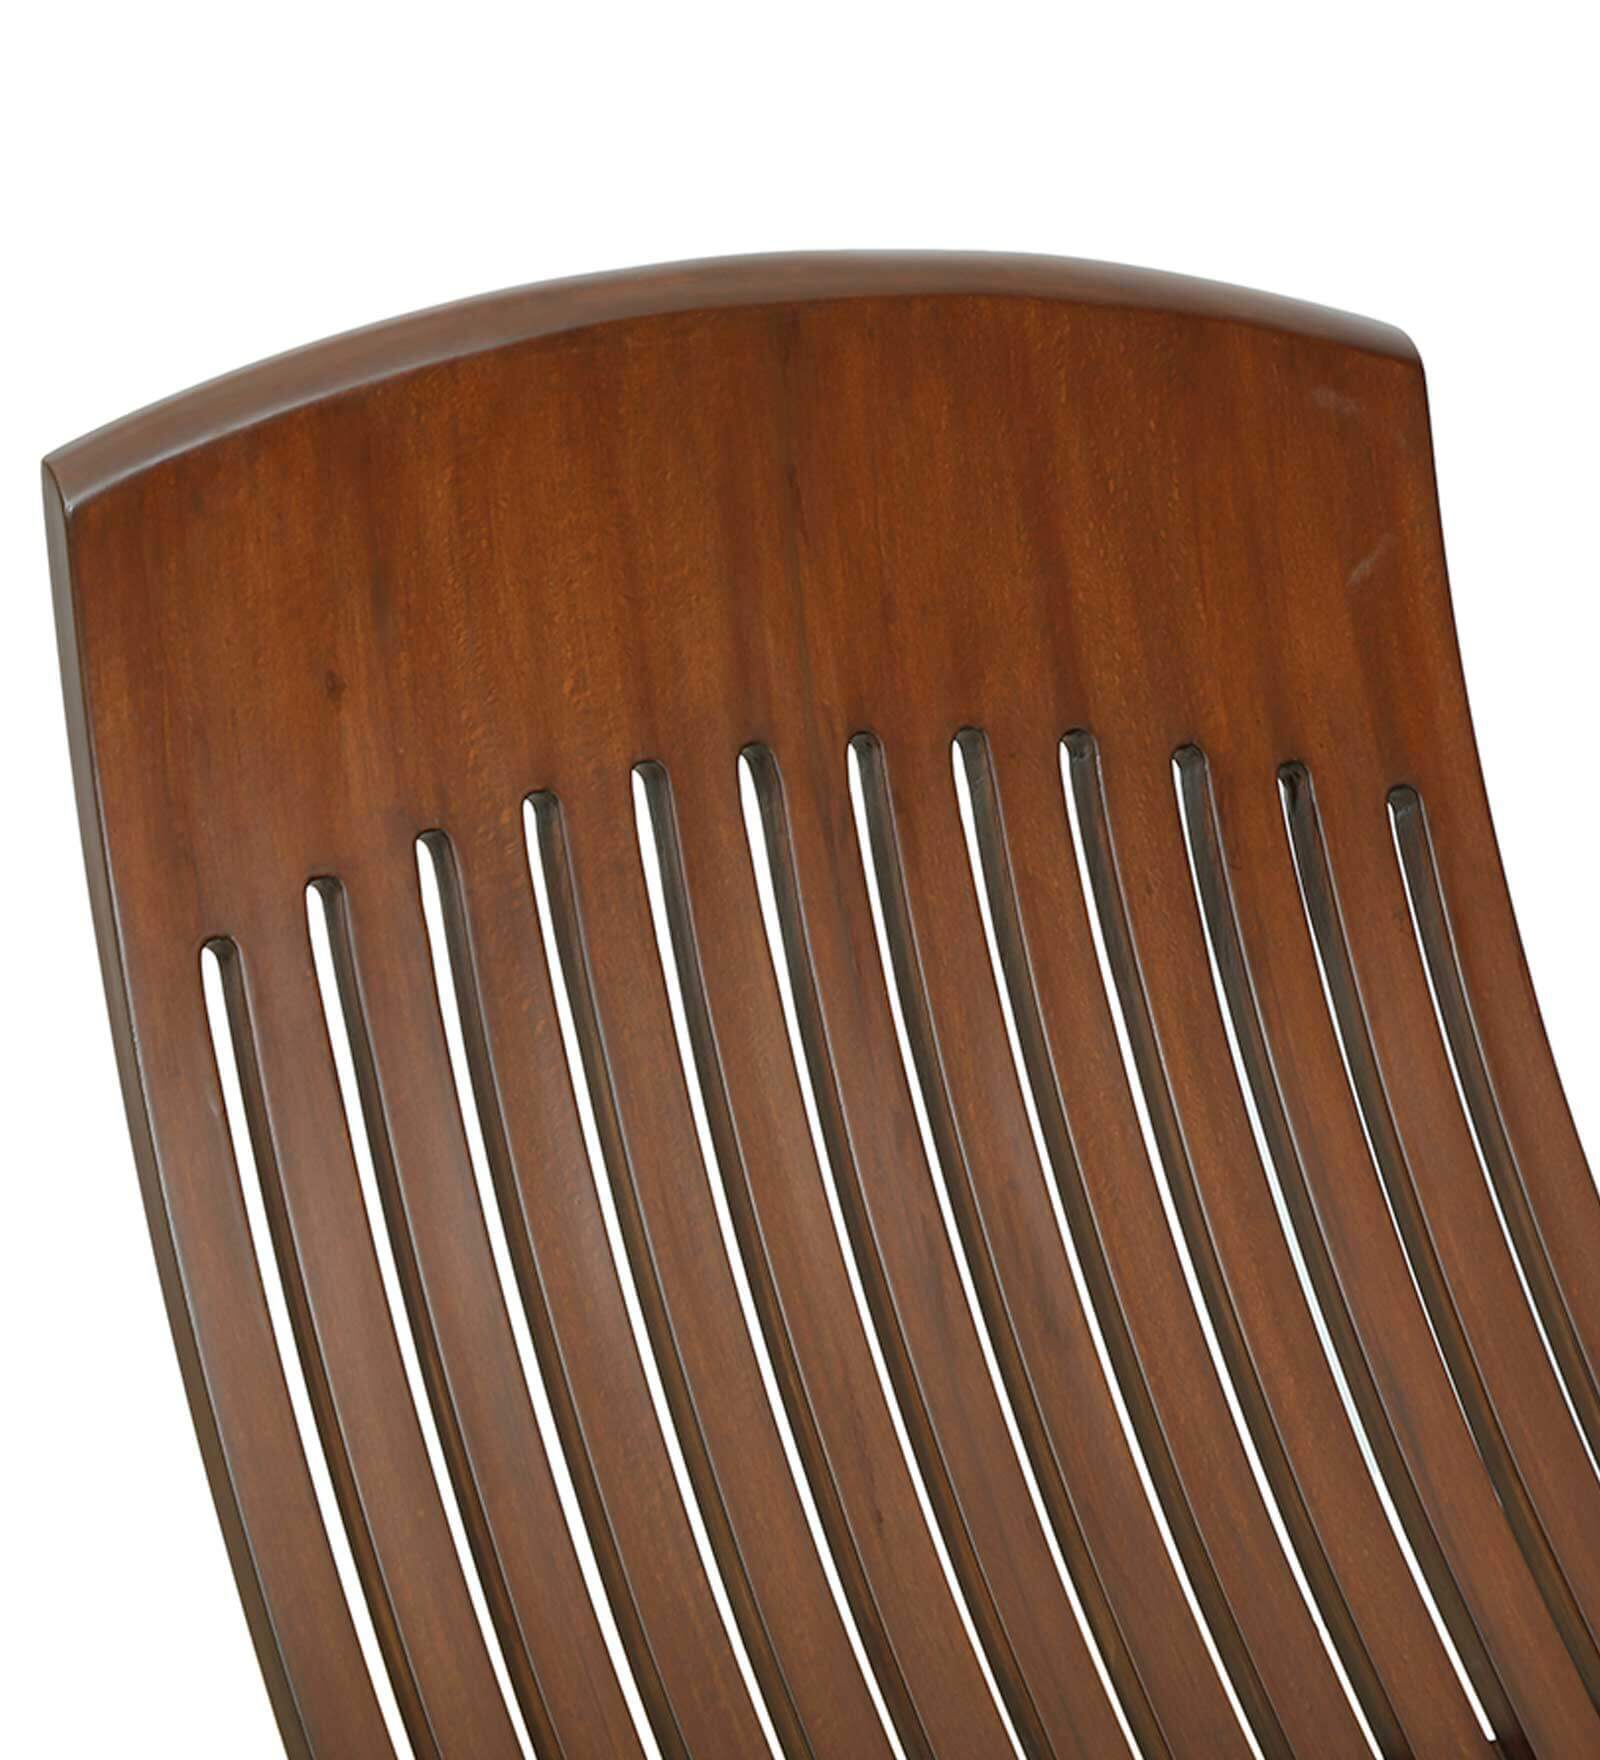Gaivota Rocking Chair in Semi-Gloss Walnut Finish by INDOORS: (25, 201, 1600, 1751)
